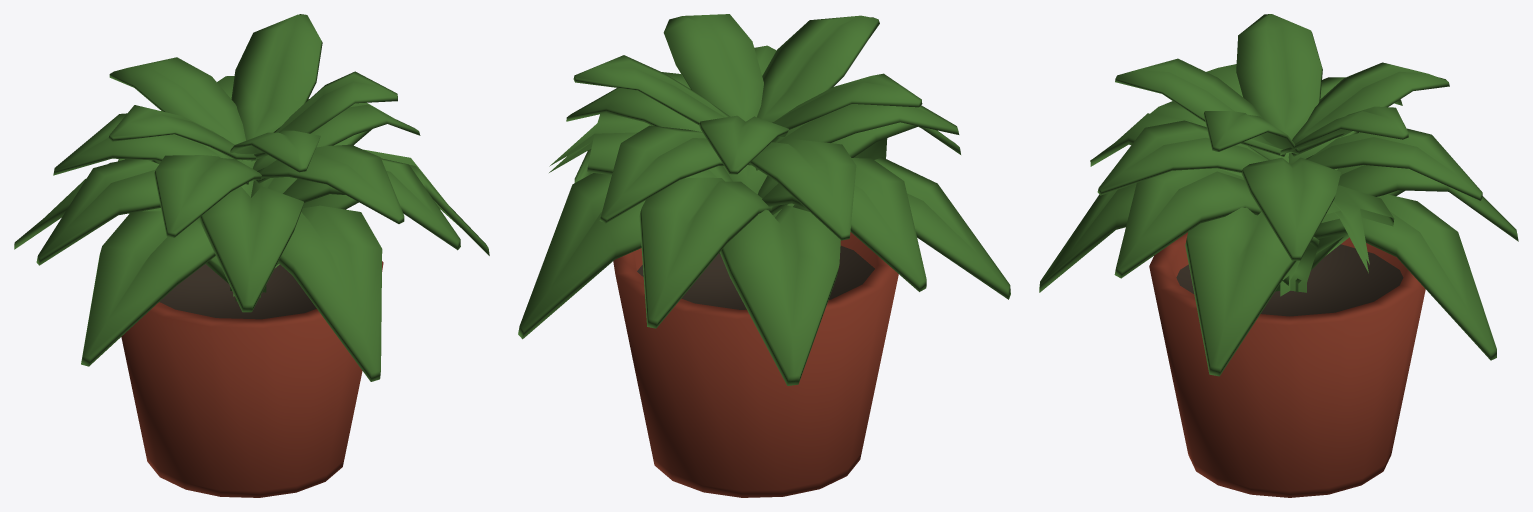
Rendered from SM_Prop_Pot.fbx.
The picture shows the model from 3 angles, left to right: view 1: azimuth 30°, elevation 25°; view 2: azimuth 150°, elevation 25°; view 3: azimuth 270°, elevation 25°; orthographic projection. The views are drawn at different scales.
Visible parts, largest first — view 1: SM_Prop_Pot; view 2: SM_Prop_Pot; view 3: SM_Prop_Pot.
Boxes of the visible parts, x1,y1,x2,y2 form: SM_Prop_Pot: (14, 14, 489, 497); SM_Prop_Pot: (518, 14, 1010, 497); SM_Prop_Pot: (1039, 14, 1518, 497).
Bounding box in the file's own units: 1.38 × 1.23 × 1.38.
Materials: 1 (1 with a texture image).
